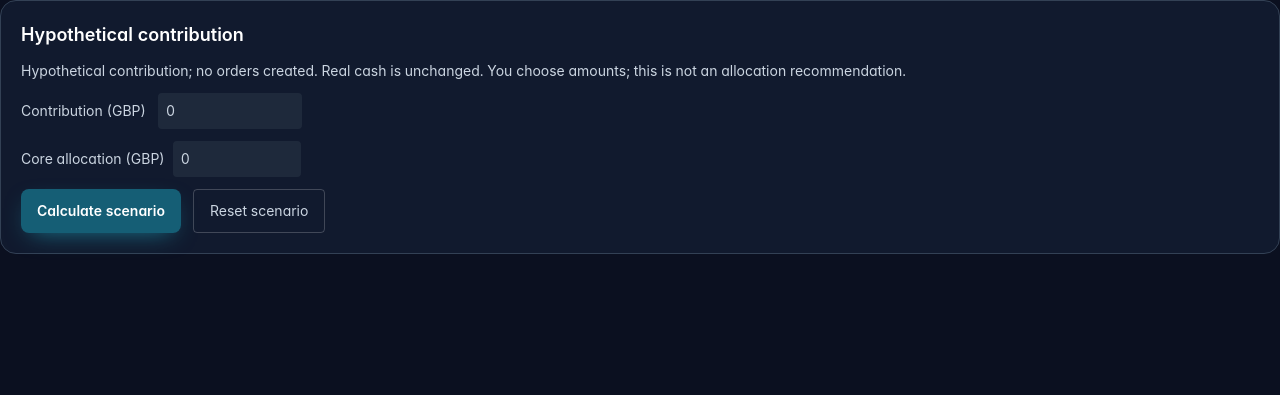
Test: sends a read-only explicit scenario, displays before/after, and clears stale results on edit/reset
Replace the text in the number field labelled "Contribution (GBP)" with "50" at (230, 111), box [158,93,302,129]
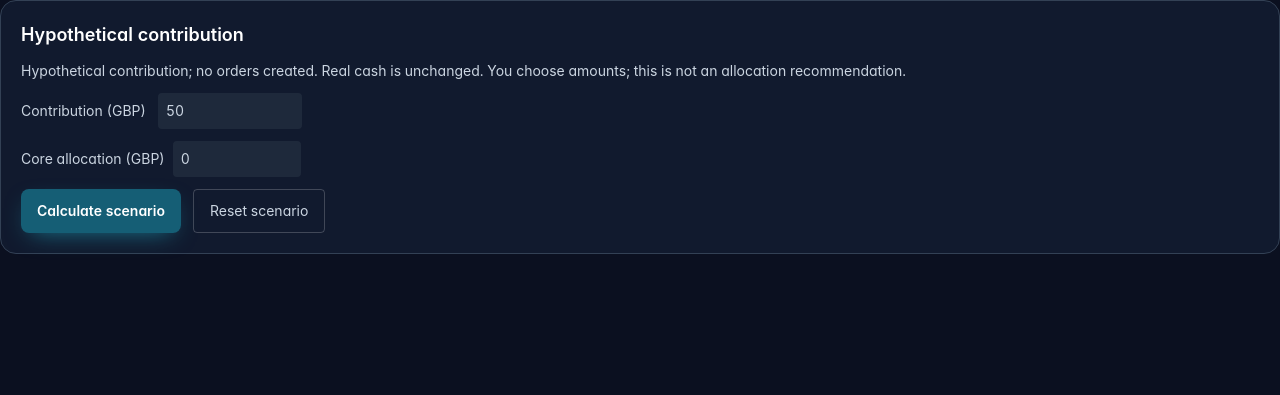
Replace the text in the number field labelled "Core allocation (GBP)" with "50" at (237, 159), box [173,141,301,177]
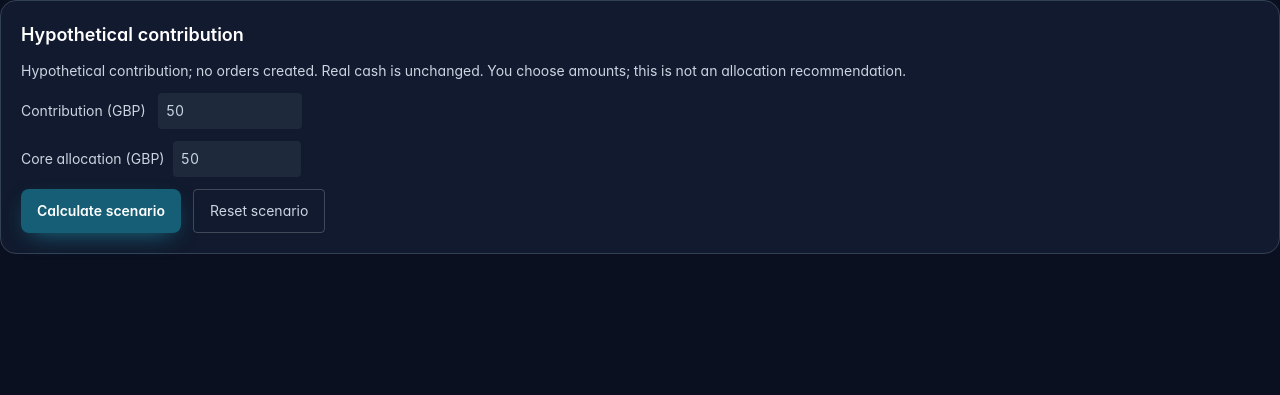
Click the button "Calculate scenario" at (101, 211), box [21,189,181,233]
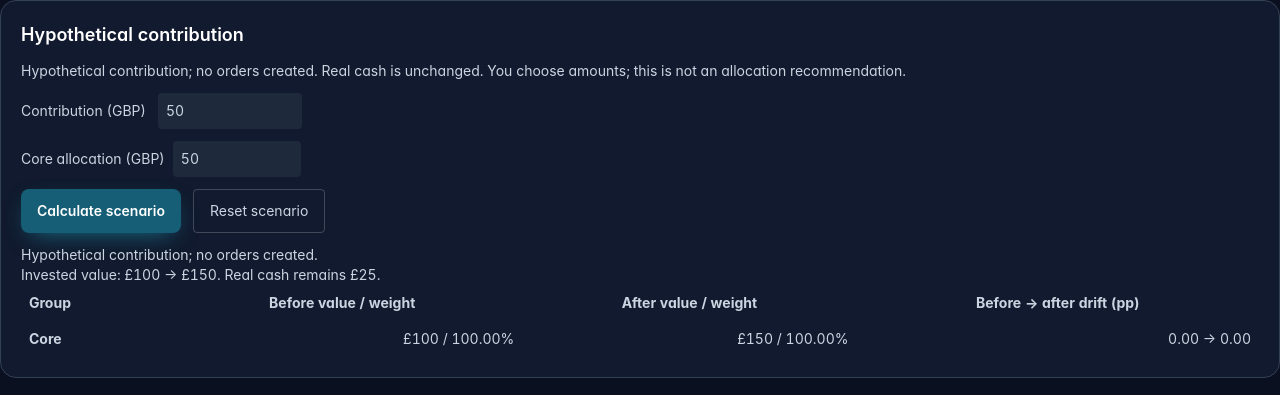
Expected: the table named "Before and hypothetical after" shows "£150", [737,330,773,347]
Replace the text in the number field labelled "Contribution (GBP)" with "60" at (230, 111), box [158,93,302,129]
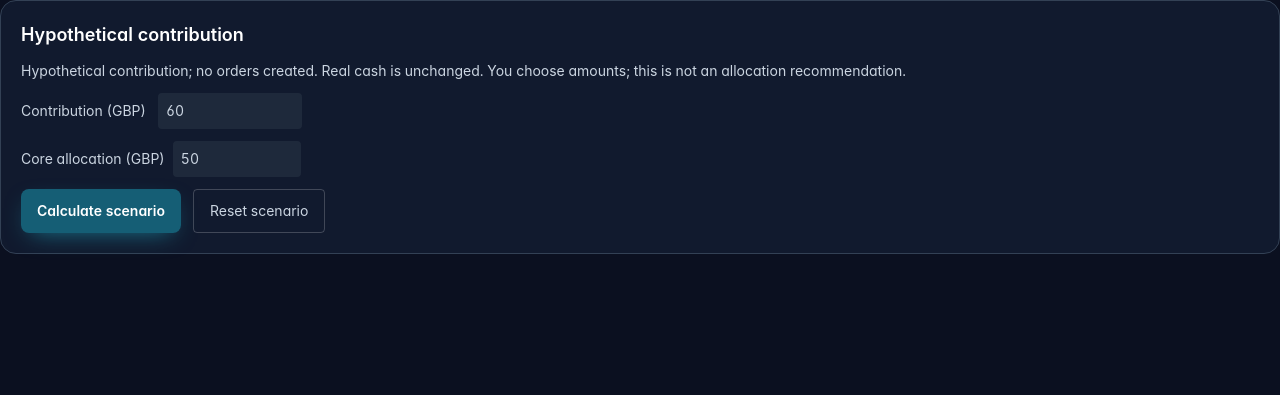
Click the button "Reset scenario" at (259, 211), box [193,189,326,233]
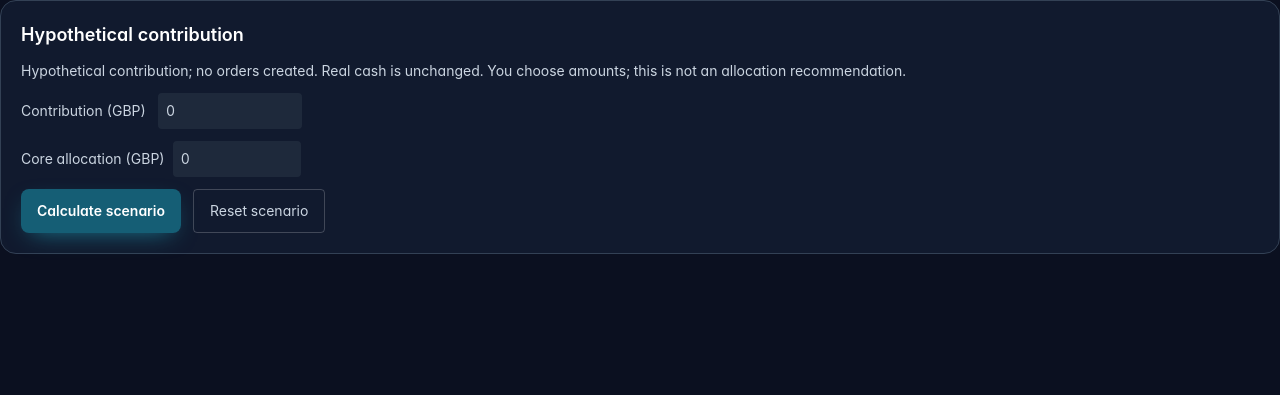
Expected: the number field labelled "Contribution (GBP)" holds "0", [158,93,302,129]
